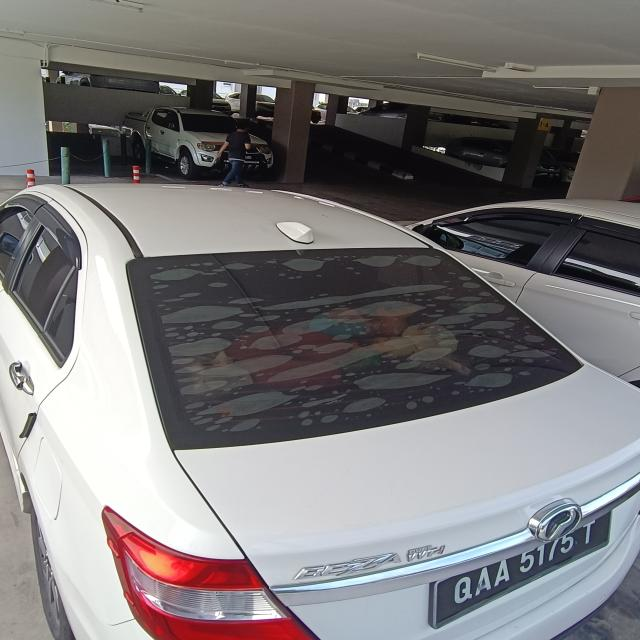PeroduaBezza: (1, 181, 639, 639)
